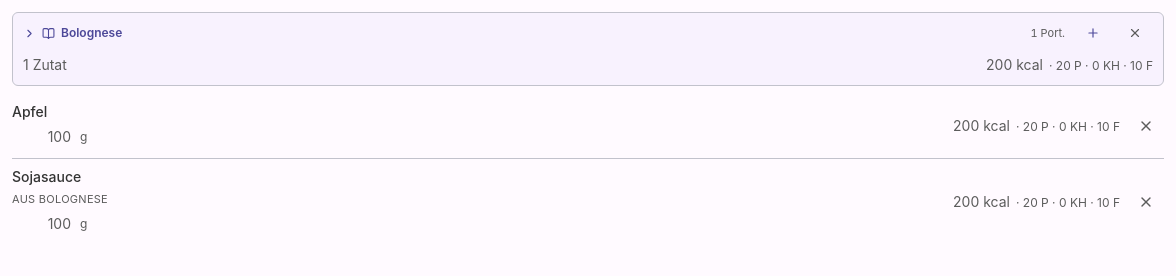
EntryList — replace and add inside a recipe batch › offers replace on rows inside a batch only, and add on the banner
Click the button with aria-label "Zutaten von „Bolognese“" at (92, 32), box [23,21,1020,45]
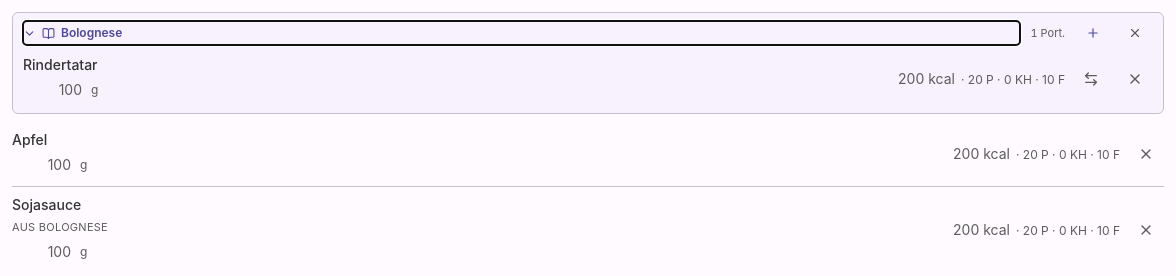
Expected: the button named "Zutat zu „Bolognese“ hinzufügen" is shown, [1075,15,1111,51]
Expected: the button named "Zutat „Rindertatar“ ersetzen" is shown, [1073,61,1109,97]
